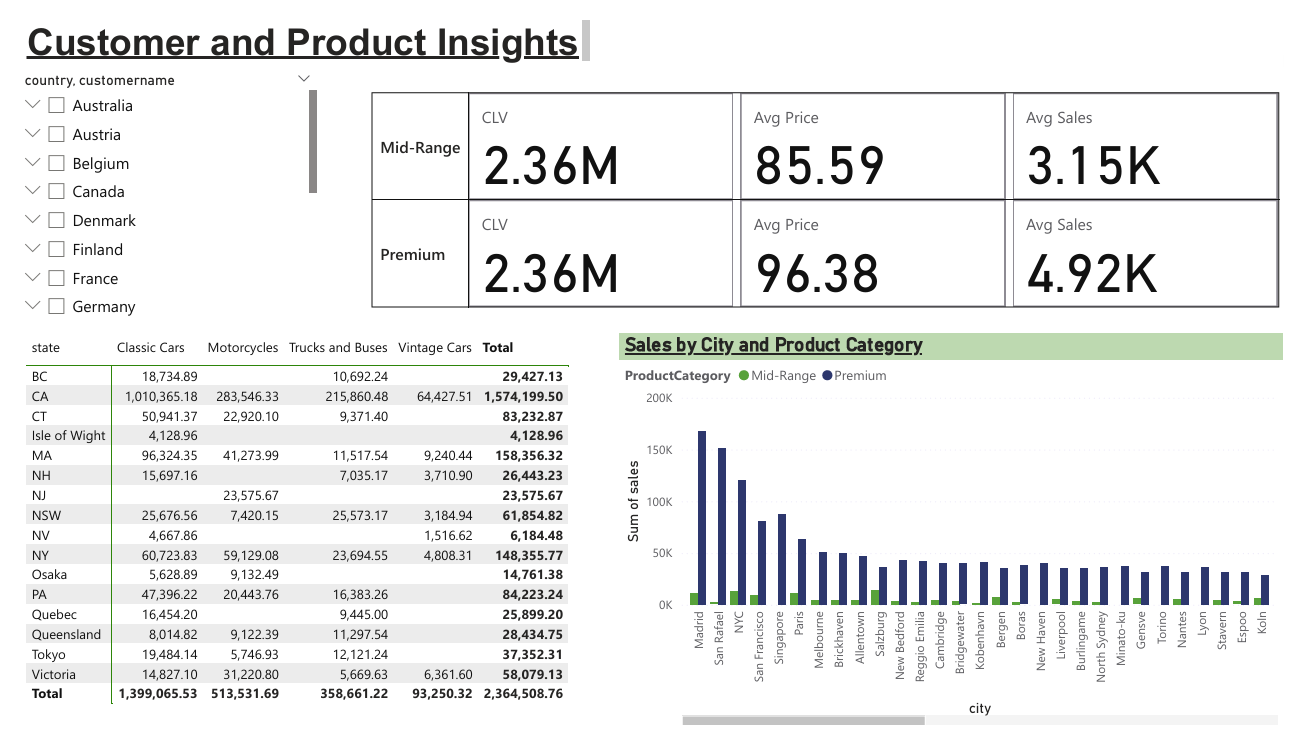

This screenshot's page, from the dashboard's own definition file:
{"tool":"powerbi","page":{"name":"Insights","canvas":[1280,720],"ordinal":2},"visuals":[{"type":"textbox","box":[10,0,577.6,51.8],"z":0},{"type":"pivotTable","fields":{"Rows":["Sales_data.state"],"Columns":["Sales_data.productline"],"Values":["Sum(Sales_data.sales)"]},"box":[10,318.7,603.5,400.3],"z":1000},{"type":"cardVisual","fields":{"Data":["Sales_data.CLV","Sales_data.Avg Price","Sales_data.Avg Sales"],"Rows":["Sales_data.ProductCategory"]},"box":[356.5,51.8,924.2,266.9],"z":2000},{"type":"slicer","fields":{"Values":["Sales_data.country","Sales_data.customername"]},"box":[0,51.8,312.7,266.9],"z":3000},{"type":"clusteredColumnChart","title":"Sales by City and Product Category","fields":{"Category":["Sales_data.city"],"Series":["Sales_data.ProductCategory"],"Y":["Sum(Sales_data.sales)"]},"box":[612.4,319.7,668.1,399.2],"z":7000}]}

Visuals, with their boxes in screenshot pixels (x1, y1, x2, y2), scaled from the page's 1280x720 canvas onto the 1297x748 screenshot:
textbox: {"left": 10, "top": 0, "right": 595, "bottom": 54}
pivotTable - Sales_data.state x Sales_data.productline: {"left": 10, "top": 331, "right": 622, "bottom": 747}
cardVisual - Sales_data.CLV x Sales_data.Avg Price: {"left": 361, "top": 54, "right": 1296, "bottom": 331}
slicer - Sales_data.country x Sales_data.customername: {"left": 0, "top": 54, "right": 317, "bottom": 331}
"Sales by City and Product Category" clusteredColumnChart: {"left": 621, "top": 332, "right": 1296, "bottom": 747}
